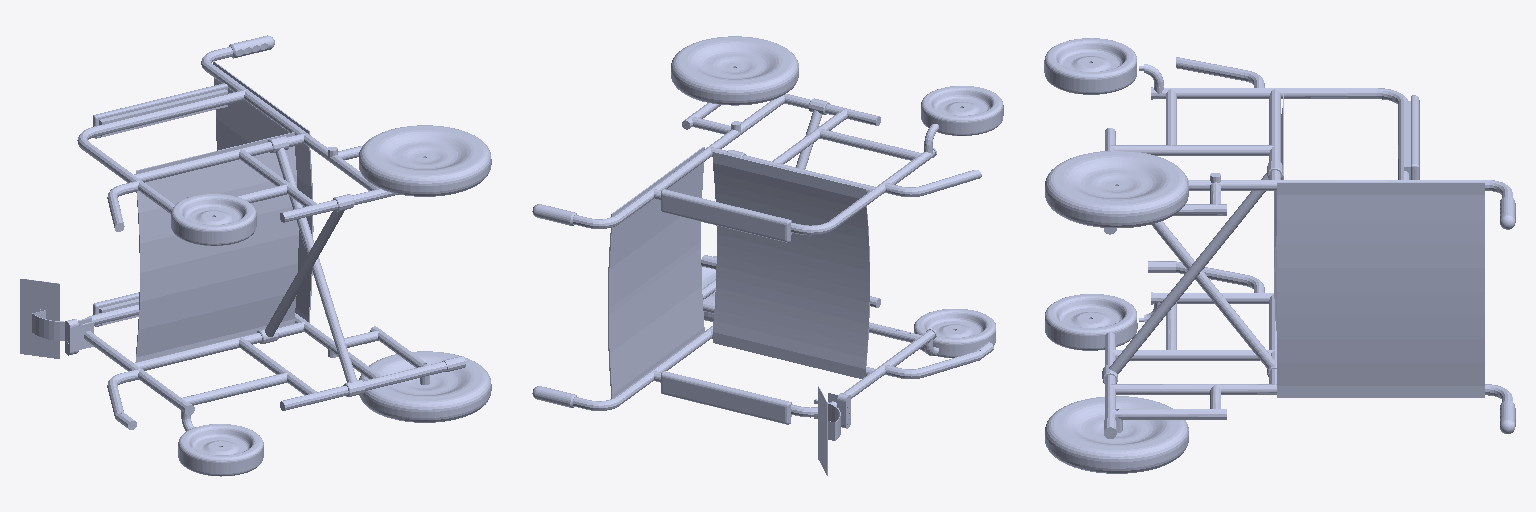
robot.urdf — wheelchair:
<?xml version="1.0" encoding="utf-8"?>

<robot
  name="wheelchair">
  <link
    name="base_link">
    <inertial>
      <origin
        xyz="-0.14238 0.06173 -0.10504"
        rpy="0 0 0" />
      <mass
        value="9.6593" />
      <inertia
        ixx="0.35079"
        ixy="-0.0041582"
        ixz="4.762E-05"
        iyy="0.30855"
        iyz="-1.6408E-05"
        izz="0.56011" />
    </inertial>
    <visual>
      <origin
        xyz="0 0 0"
        rpy="0 0 0" />
      <geometry>
        <mesh
          filename="package://wheelchair_description/meshes/base_link.STL" />
      </geometry>
      <material
        name="">
        <color
          rgba="0.79216 0.81961 0.93333 1" />
      </material>
    </visual>
    <collision>
      <origin
        xyz="0 0 0"
        rpy="0 0 0" />
      <geometry>
        <mesh
          filename="package://wheelchair_description/meshes/base_link.STL" />
      </geometry>
    </collision>
  </link>
  <link
    name="left_wheel">
    <inertial>
      <origin
        xyz="5.5511E-16 -1.9429E-16 -0.016"
        rpy="0 0 0" />
      <mass
        value="3.5068" />
      <inertia
        ixx="0.025596"
        ixy="-1.1778E-18"
        ixz="-1.814E-19"
        iyy="0.025596"
        iyz="7.7958E-19"
        izz="0.049823" />
    </inertial>
    <visual>
      <origin
        xyz="0 0 0"
        rpy="0 0 0" />
      <geometry>
        <mesh
          filename="package://wheelchair_description/meshes/left_wheel.STL" />
      </geometry>
      <material
        name="">
        <color
          rgba="0.79216 0.81961 0.93333 1" />
      </material>
    </visual>
    <collision>
      <origin
        xyz="0 0 0"
        rpy="0 0 0" />
      <geometry>
        <mesh
          filename="package://wheelchair_description/meshes/left_wheel.STL" />
      </geometry>
    </collision>
  </link>
  <joint
    name="wheel1"
    type="continuous">
    <origin
      xyz="0.21536 -0.23488 0.21222"
      rpy="0 0 0" />
    <parent
      link="base_link" />
    <child
      link="left_wheel" />
    <axis
      xyz="0 0 1" />
  </joint>
  <link
    name="right_wheel">
    <inertial>
      <origin
        xyz="-4.4409E-16 8.3267E-17 -0.016"
        rpy="0 0 0" />
      <mass
        value="3.5068" />
      <inertia
        ixx="0.025596"
        ixy="1.7094E-18"
        ixz="3.1551E-19"
        iyy="0.025596"
        iyz="3.173E-19"
        izz="0.049823" />
    </inertial>
    <visual>
      <origin
        xyz="0 0 0"
        rpy="0 0 0" />
      <geometry>
        <mesh
          filename="package://wheelchair_description/meshes/right_wheel.STL" />
      </geometry>
      <material
        name="">
        <color
          rgba="0.79216 0.81961 0.93333 1" />
      </material>
    </visual>
    <collision>
      <origin
        xyz="0 0 0"
        rpy="0 0 0" />
      <geometry>
        <mesh
          filename="package://wheelchair_description/meshes/right_wheel.STL" />
      </geometry>
    </collision>
  </link>
  <joint
    name="wheel2"
    type="continuous">
    <origin
      xyz="0.21536 -0.23488 -0.41978"
      rpy="3.1416 0 3.1416" />
    <parent
      link="base_link" />
    <child
      link="right_wheel" />
    <axis
      xyz="0 0 -1" />
  </joint>
  <link
    name="depth_camera">
    <inertial>
      <origin
        xyz="5.1164E-06 -0.012641 0.031883"
        rpy="0 0 0" />
      <mass
        value="0.053869" />
      <inertia
        ixx="5.7339E-06"
        ixy="2.8393E-11"
        ixz="5.9589E-09"
        iyy="3.5154E-05"
        iyz="1.7675E-07"
        izz="3.4905E-05" />
    </inertial>
    <visual>
      <origin
        xyz="0 0 0"
        rpy="0 0 0" />
      <geometry>
        <mesh
          filename="package://wheelchair_description/meshes/depth_camera.STL" />
      </geometry>
      <material
        name="">
        <color
          rgba="0.79216 0.81961 0.93333 1" />
      </material>
    </visual>
    <collision>
      <origin
        xyz="0 0 0"
        rpy="0 0 0" />
      <geometry>
        <mesh
          filename="package://wheelchair_description/meshes/depth_camera.STL" />
      </geometry>
    </collision>
  </link>
  <joint
    name="camera"
    type="fixed">
    <origin
      xyz="-0.39931 0.33074 -0.35378"
      rpy="3.1416 1.5708 0" />
    <parent
      link="base_link" />
    <child
      link="depth_camera" />
    <axis
      xyz="0 0 0" />
  </joint>
  <link
    name="lider">
    <inertial>
      <origin
        xyz="-0.0031142 0.017894 -0.0072225"
        rpy="0 0 0" />
      <mass
        value="0.13016" />
      <inertia
        ixx="0.00054372"
        ixy="6.6921E-05"
        ixz="-1.1138E-05"
        iyy="8.3702E-05"
        iyz="5.9592E-05"
        izz="0.00057444" />
    </inertial>
    <visual>
      <origin
        xyz="0 0 0"
        rpy="0 0 0" />
      <geometry>
        <mesh
          filename="package://wheelchair_description/meshes/lider.STL" />
      </geometry>
      <material
        name="">
        <color
          rgba="0.79216 0.81961 0.93333 1" />
      </material>
    </visual>
    <collision>
      <origin
        xyz="0 0 0"
        rpy="0 0 0" />
      <geometry>
        <mesh
          filename="package://wheelchair_description/meshes/lider.STL" />
      </geometry>
    </collision>
  </link>
  <joint
    name="lider"
    type="fixed">
    <origin
      xyz="-0.64132 -0.14701 -0.37178"
      rpy="1.5714 1.5708 0" />
    <parent
      link="base_link" />
    <child
      link="lider" />
    <axis
      xyz="0 0 0" />
  </joint>
</robot>

--- What the picture shows (computed from the rendered views, not written in the file) ---
3 views of the same robot in one strip: view 1: azimuth 30°, elevation 25°; view 2: azimuth 150°, elevation 25°; view 3: azimuth 270°, elevation 25° (orthographic).
Model wheelchair with 5 links and 4 joints (2 continuous, 2 fixed), rooted at base_link, posed every joint at zero.
Visible links, largest first — view 1: base_link, left_wheel, right_wheel, depth_camera; view 2: base_link, left_wheel; view 3: base_link, left_wheel, right_wheel.
Link boxes in pixels (box(x1,y1,x2,y2)): base_link: box(20, 35, 465, 476); left_wheel: box(359, 125, 491, 196); right_wheel: box(359, 351, 491, 422); depth_camera: box(65, 319, 93, 355); base_link: box(532, 86, 1003, 475); left_wheel: box(671, 36, 798, 105); base_link: box(1044, 38, 1515, 438); left_wheel: box(1045, 151, 1188, 227); right_wheel: box(1045, 396, 1188, 473).
Bounding box of the posed robot: 0.9459 × 1.04 × 0.6866 m (x, y, z).
4 mesh visuals loaded from 5 distinct referenced files (4 binary STL); not drawn: 1 (reference not matched to a file when rendering).